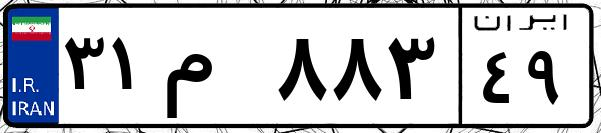1: (110, 28, 158, 98)
3: (385, 28, 445, 110), (57, 26, 110, 100)
4: (475, 38, 525, 113)
8: (270, 28, 330, 110), (330, 28, 385, 110)
9: (525, 38, 570, 115)
م: (158, 20, 270, 120)
